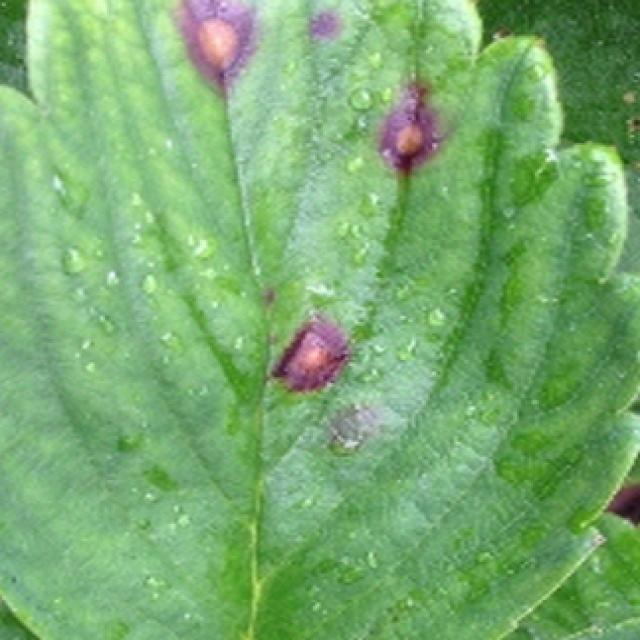Leaf Spot: (0, 0, 640, 640)
